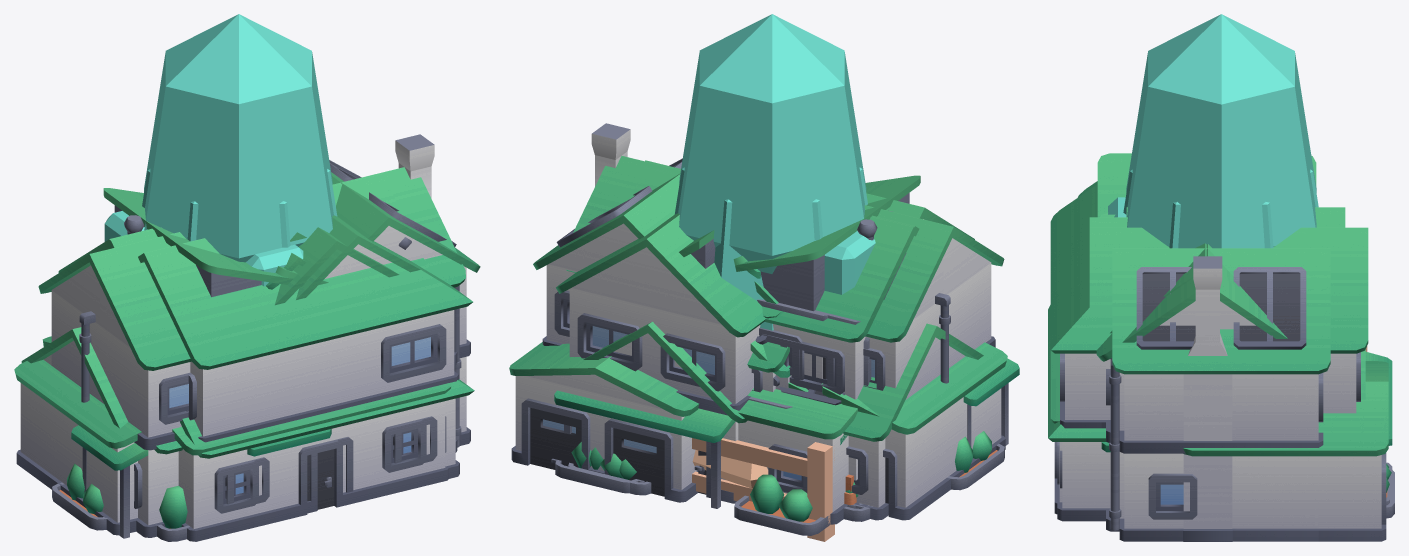
The model's file is props-town.glb.
The picture shows the model from 3 angles, left to right: view 1: azimuth 30°, elevation 25°; view 2: azimuth 150°, elevation 25°; view 3: azimuth 270°, elevation 25°; orthographic projection.
Parts seen in each view (by area): view 1: building-type-f_0, tree_default_0, building-type-n_0, building-type-t_0, building-type-d_0, building-type-b_0, building-type-m_0, building-type-k_0, building-type-u_0, building-type-s_0, tree_detailed_0, tree_oak_0; view 2: tree_default_0, building-type-n_0, building-type-f_0, building-type-d_0, building-type-b_0, building-type-t_0, building-type-e_0, building-type-k_0, fence_simple_0, building-type-m_0, tree_oak_0, tree_detailed_0 (+6 smaller); view 3: building-type-b_0, tree_default_0, building-type-f_0, building-type-d_0, building-type-n_0, building-type-m_0, building-type-u_0, building-type-t_0, building-type-k_0, tree_oak_0, building-type-r_0, building-type-s_0.
Boxes of the visible parts, x1=… form: building-type-f_0: x1=138, y1=215, x2=472, y2=541; tree_default_0: x1=144, y1=14, x2=333, y2=262; building-type-n_0: x1=38, y1=232, x2=331, y2=538; building-type-t_0: x1=42, y1=173, x2=451, y2=541; building-type-d_0: x1=14, y1=134, x2=465, y2=535; building-type-b_0: x1=21, y1=160, x2=480, y2=530; building-type-m_0: x1=180, y1=379, x2=474, y2=526; building-type-k_0: x1=103, y1=188, x2=323, y2=297; building-type-u_0: x1=296, y1=216, x2=448, y2=299; building-type-s_0: x1=275, y1=227, x2=399, y2=305; tree_detailed_0: x1=104, y1=211, x2=303, y2=286; tree_oak_0: x1=142, y1=168, x2=337, y2=247; tree_default_0: x1=678, y1=14, x2=866, y2=273; building-type-n_0: x1=509, y1=205, x2=1019, y2=518; building-type-f_0: x1=554, y1=193, x2=974, y2=508; building-type-d_0: x1=566, y1=123, x2=1007, y2=520; building-type-b_0: x1=533, y1=158, x2=1004, y2=520; building-type-t_0: x1=568, y1=160, x2=919, y2=535; building-type-e_0: x1=625, y1=161, x2=918, y2=444; building-type-k_0: x1=735, y1=175, x2=920, y2=375; fence_simple_0: x1=692, y1=438, x2=834, y2=541; building-type-m_0: x1=555, y1=321, x2=747, y2=493; tree_oak_0: x1=674, y1=167, x2=867, y2=300; tree_detailed_0: x1=815, y1=231, x2=875, y2=294; building-type-b_0: x1=1109, y1=248, x2=1330, y2=541; tree_default_0: x1=1126, y1=14, x2=1316, y2=248; building-type-f_0: x1=1050, y1=184, x2=1392, y2=521; building-type-d_0: x1=1096, y1=249, x2=1287, y2=541; building-type-n_0: x1=1078, y1=181, x2=1388, y2=541; building-type-m_0: x1=1048, y1=305, x2=1394, y2=521; building-type-u_0: x1=1089, y1=227, x2=1307, y2=509; building-type-t_0: x1=1050, y1=214, x2=1392, y2=514; building-type-k_0: x1=1097, y1=153, x2=1316, y2=217; tree_oak_0: x1=1123, y1=169, x2=1318, y2=248; building-type-r_0: x1=1126, y1=207, x2=1345, y2=227; building-type-s_0: x1=1089, y1=217, x2=1127, y2=452.
Size of the model in its own units: 9.14 by 10.25 by 7.14.
Materials: 16 (1 with a texture image).
